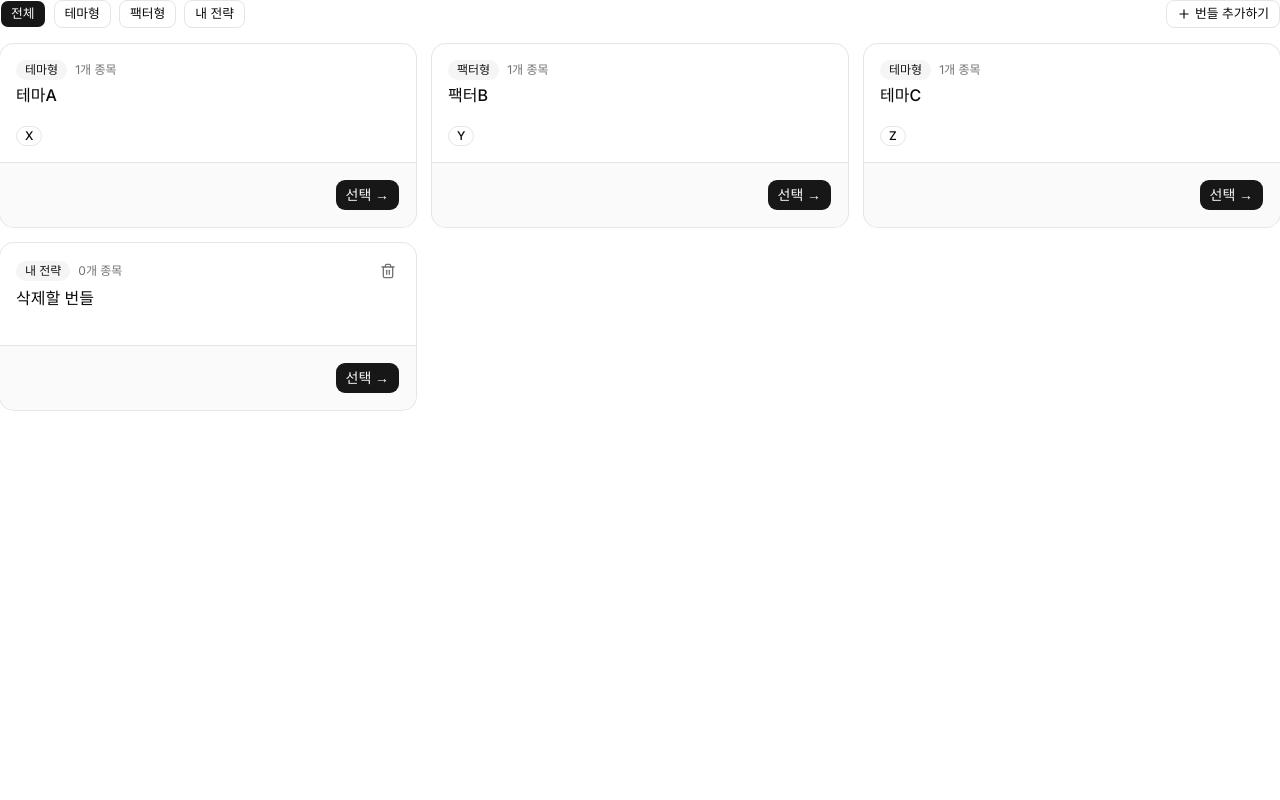
Test: BundleGallery — custom bundle › custom bundle 삭제 확인 후 카드가 목록에서 사라진다
Expected: the text "삭제할 번들" is shown, [16, 288, 94, 308]
Click the button named "삭제".
click(388, 271)  # box [376, 259, 400, 283]
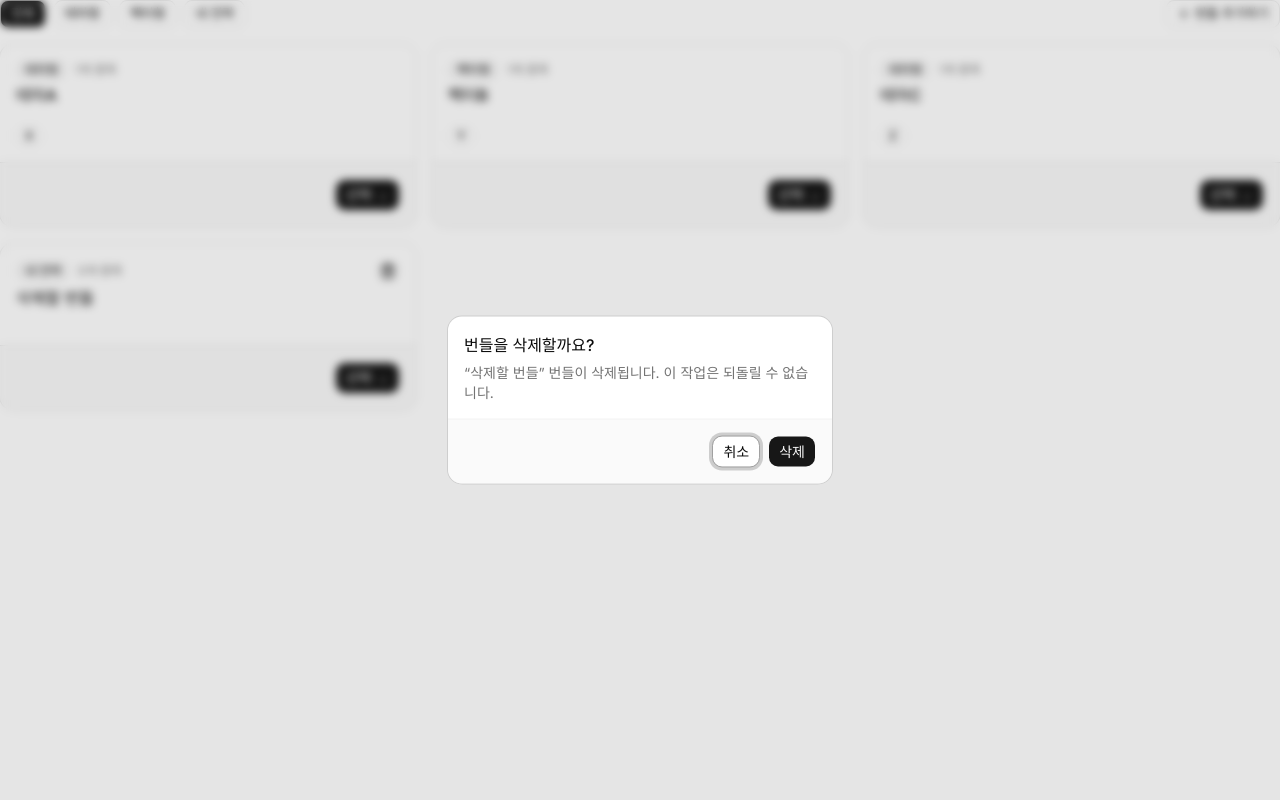
Click the button "삭제".
click(792, 452)  # box [768, 436, 816, 468]
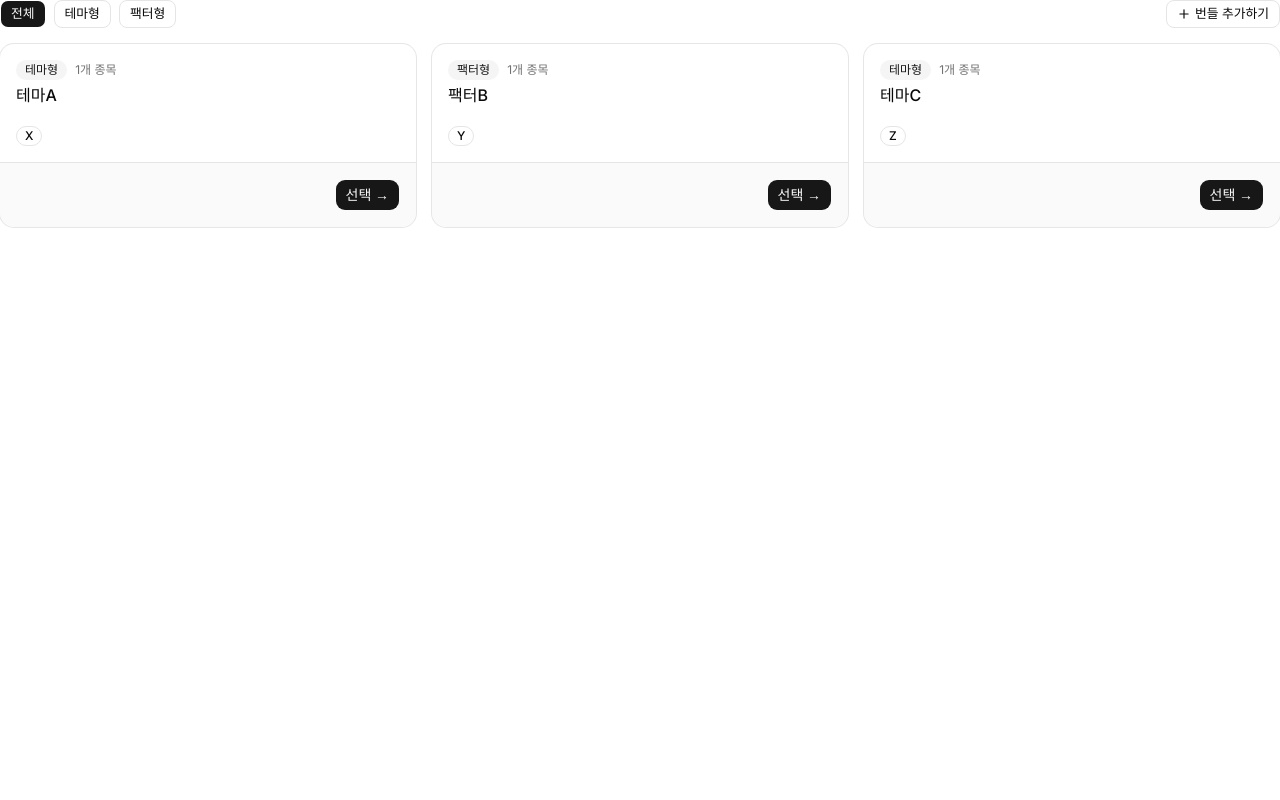
Expected: the text "삭제할 번들" is gone
